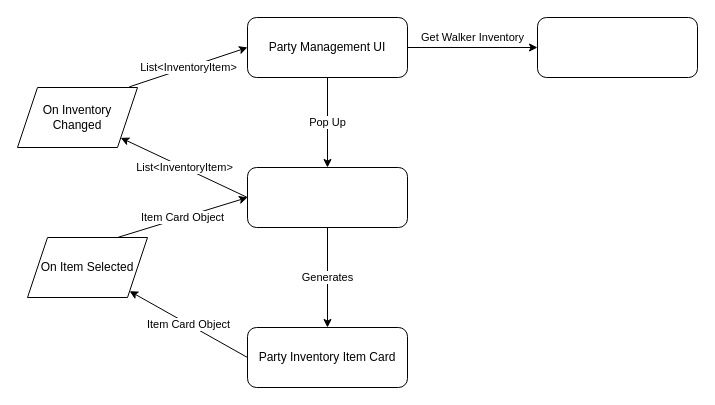
Image size: 715x405. Some labels were removed from this diagram. Here are the shapes that lost their labels. From the top down, the centre of each, then its label:
[617,47]: PlayerInfoSO
[327,197]: Party Inventory UI
